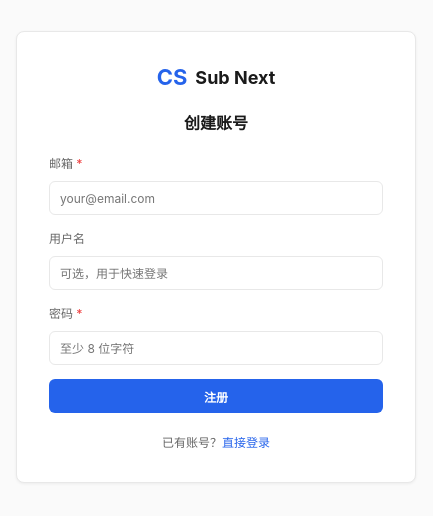
auth pages › shows the backend rate-limit message on the register page
The image size is (433, 516).
Type "demo@example.com" into the field labelled "邮箱 *" at (216, 198), box 49,181 -> 383,215
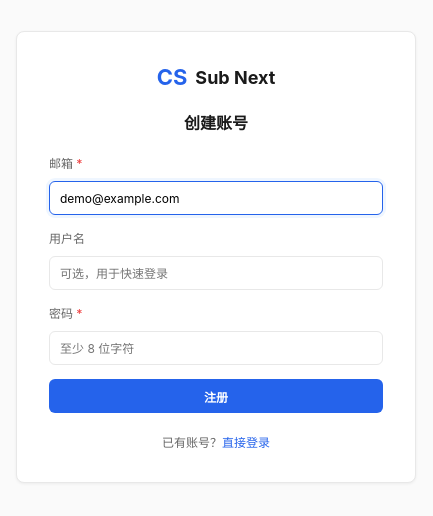
Type "demo_user" into the field labelled "用户名" at (216, 273), box 49,256 -> 383,290
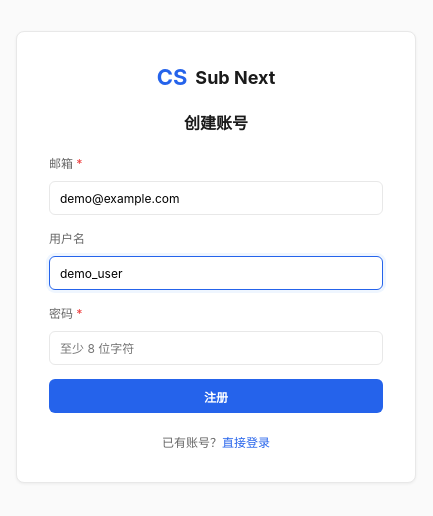
Type "strong-password" into the password field labelled "密码 *" at (216, 348), box 49,331 -> 383,365
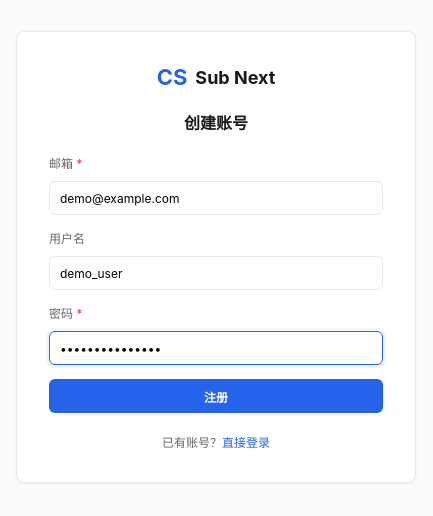
Click the button "注册" at (216, 396), box 49,379 -> 383,413
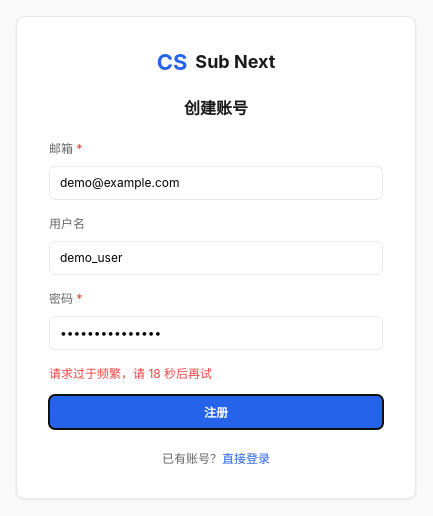
Check: the message reads "请求过于频繁，请 18 秒后再试", box 49,366 -> 212,380
